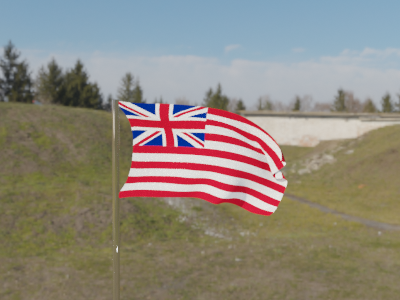Malaysia flag: (117, 97, 289, 221)
